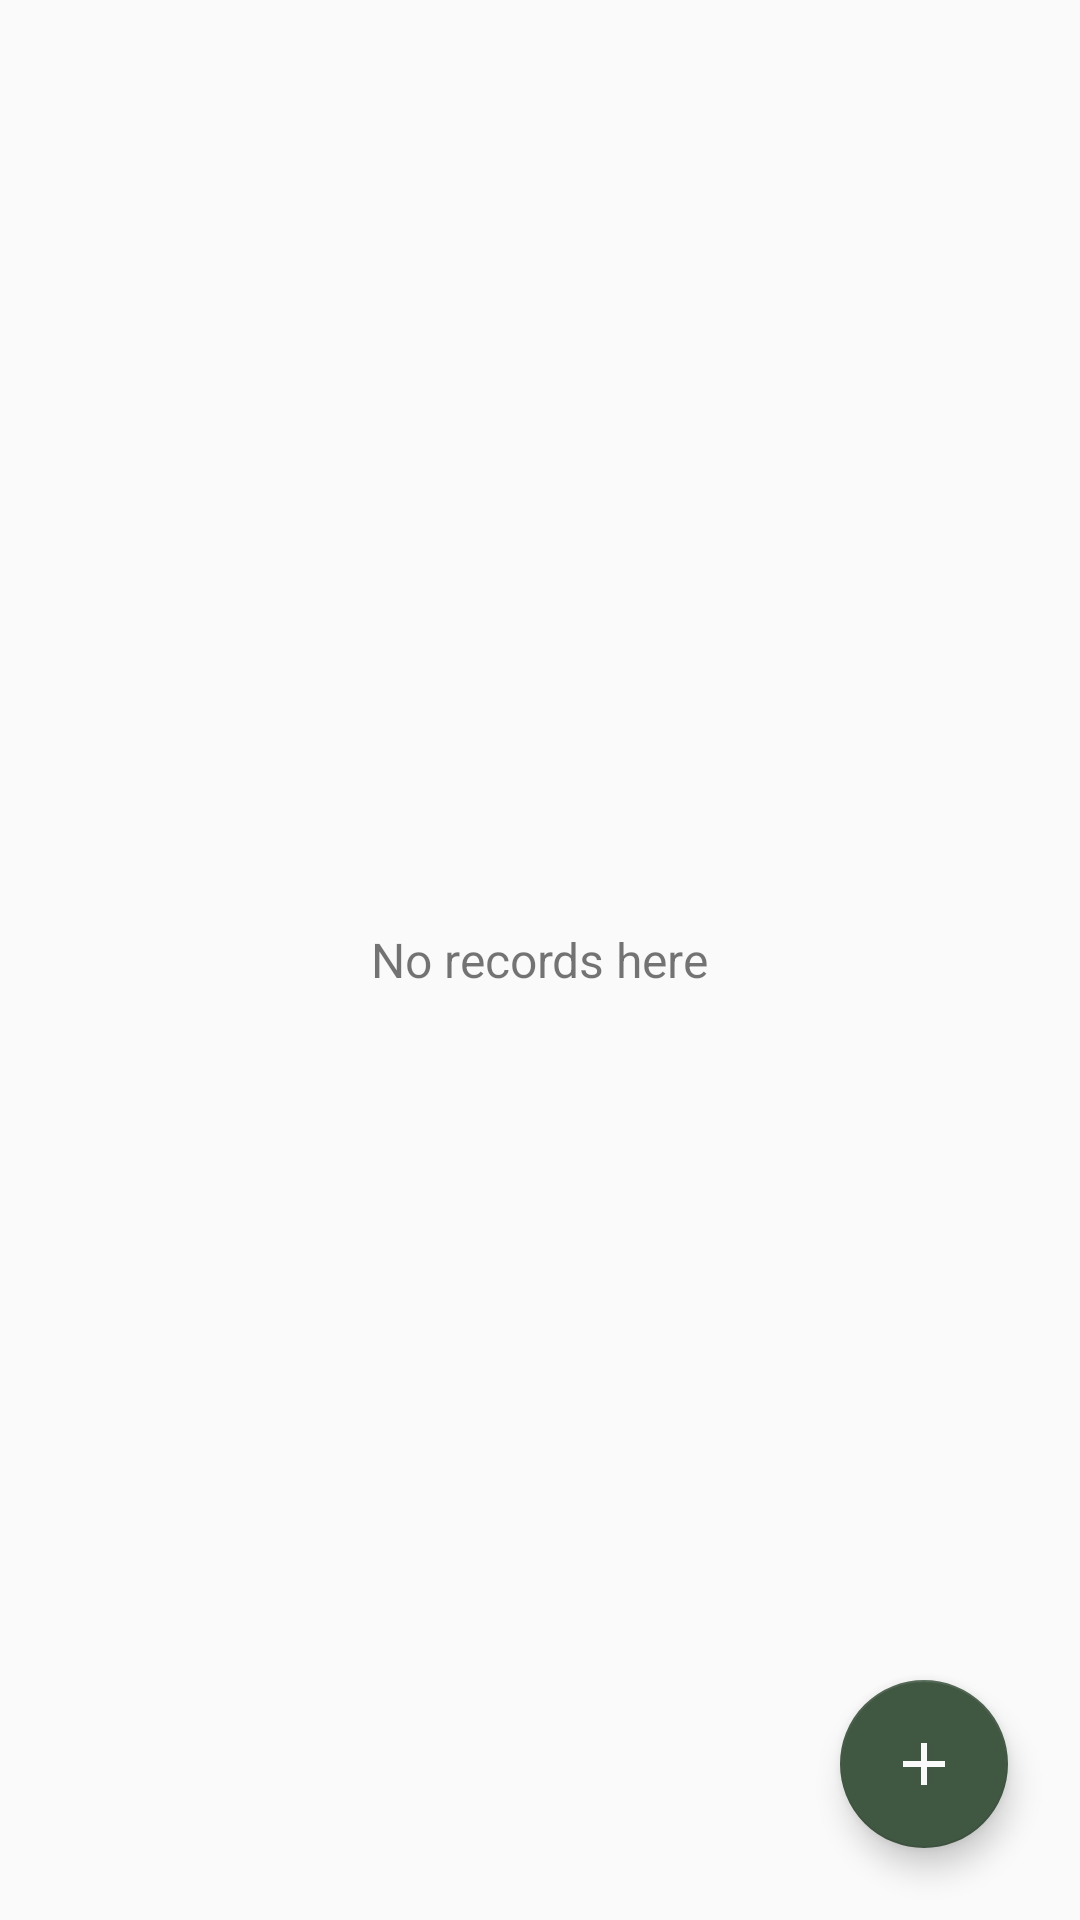

Icon bounding boxes for this 1080 × 1920 phone screenshot, format (x1, y1, x2, y2):
Add record: (840, 1680, 1008, 1848)
